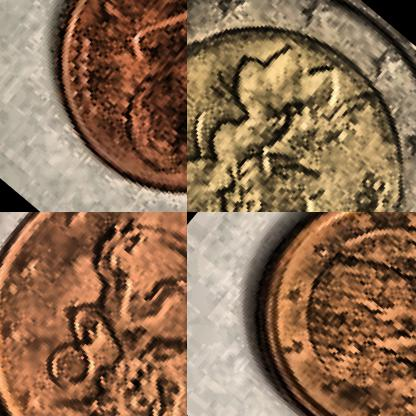coin: (187, 0, 415, 211), (207, 212, 415, 415), (0, 212, 186, 415), (8, 0, 186, 211)
